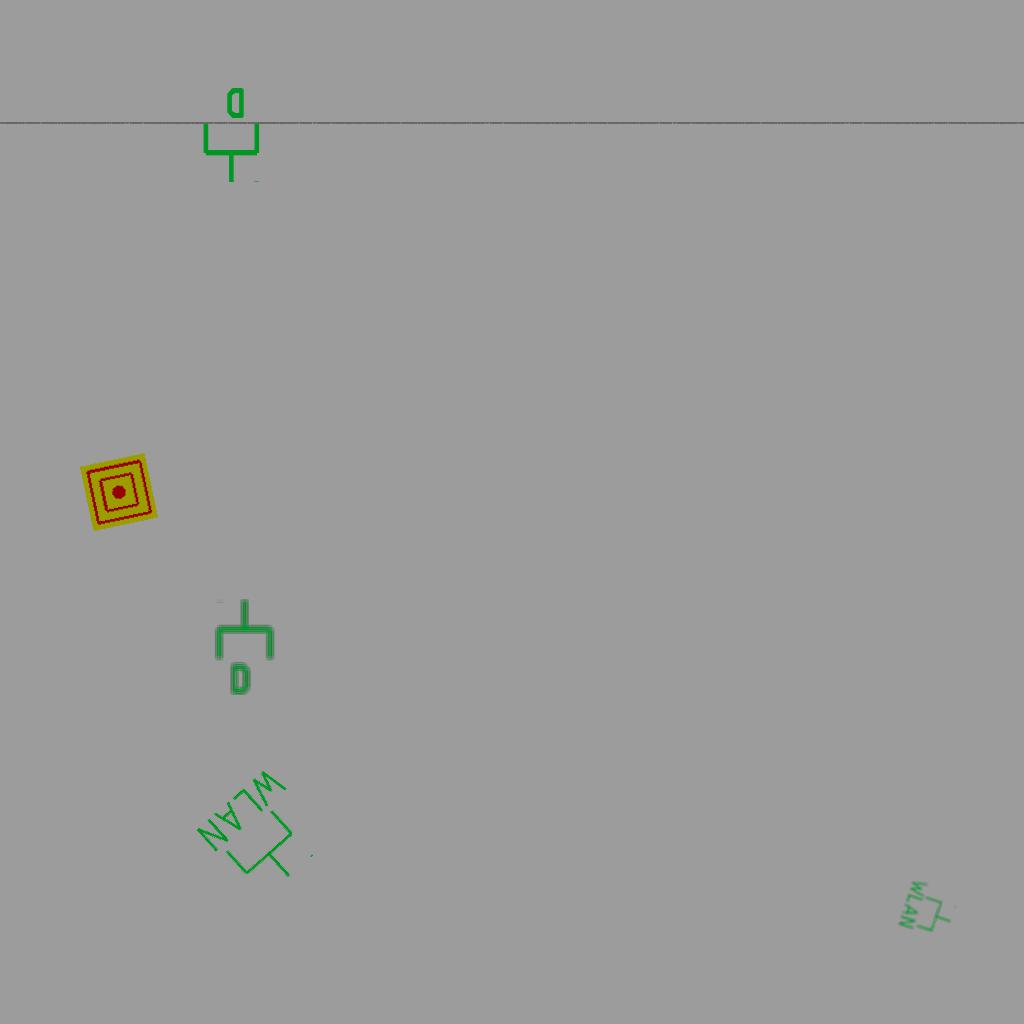Datenanschluss_einfach: (212, 597, 281, 697), (195, 85, 264, 185)
NAM-Nichtautomatischer_Melder: (79, 452, 159, 532)
WLAN: (190, 759, 338, 908), (896, 876, 962, 942)
